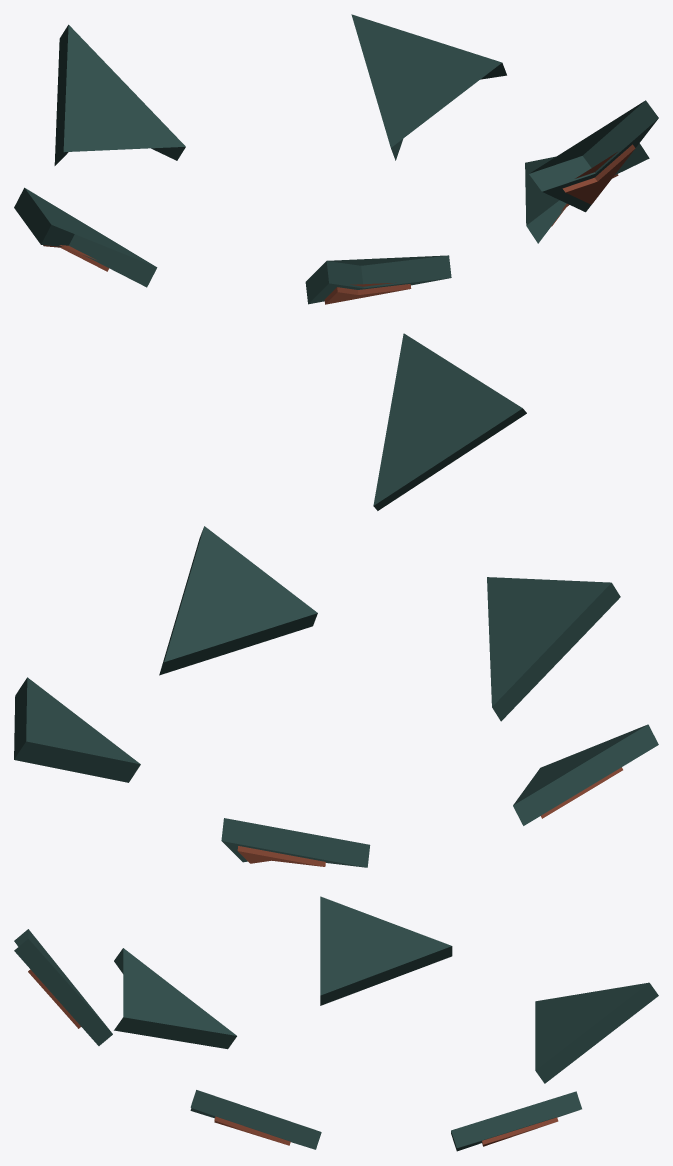
File: shell_rivet_c2.glb
3 views of the same model, one above another, from view 1: azimuth 30°, elevation 25°; view 2: azimuth 150°, elevation 25°; view 3: azimuth 270°, elevation 25° (orthographic). The views are drawn at different scales.
Visible parts, largest first — view 1: Pod; view 2: Pod; view 3: Pod.
Boxes of the visible parts, x1=… form: Pod: x1=14, y1=14, x2=658, y2=304; Pod: x1=14, y1=333, x2=658, y2=867; Pod: x1=14, y1=896, x2=658, y2=1151.
Bounding box in the file's own units: 1.11 × 0.4895 × 1.37.
